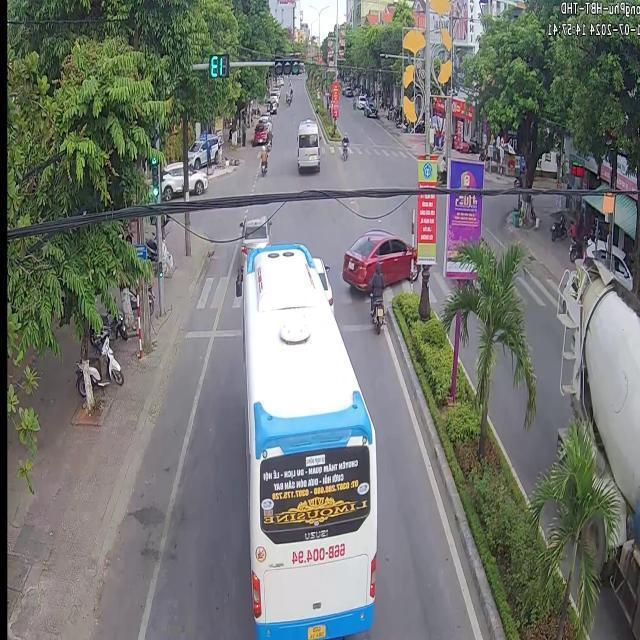car: (238, 242, 374, 636), (340, 227, 417, 289), (238, 214, 269, 265), (296, 118, 319, 171), (312, 256, 333, 311)
green_light: (148, 151, 158, 200), (272, 56, 298, 74), (149, 131, 158, 151)
motobike: (368, 260, 383, 331)
stop_line: (183, 327, 238, 334), (336, 319, 371, 328)
